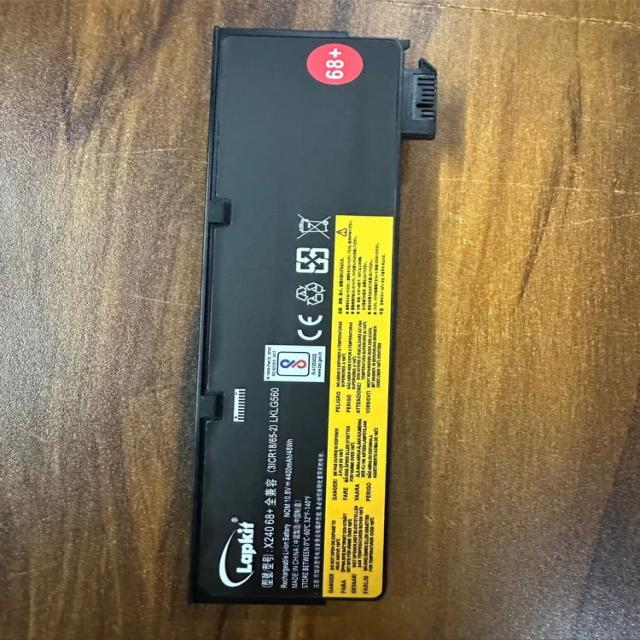electronic: (166, 4, 491, 624)
